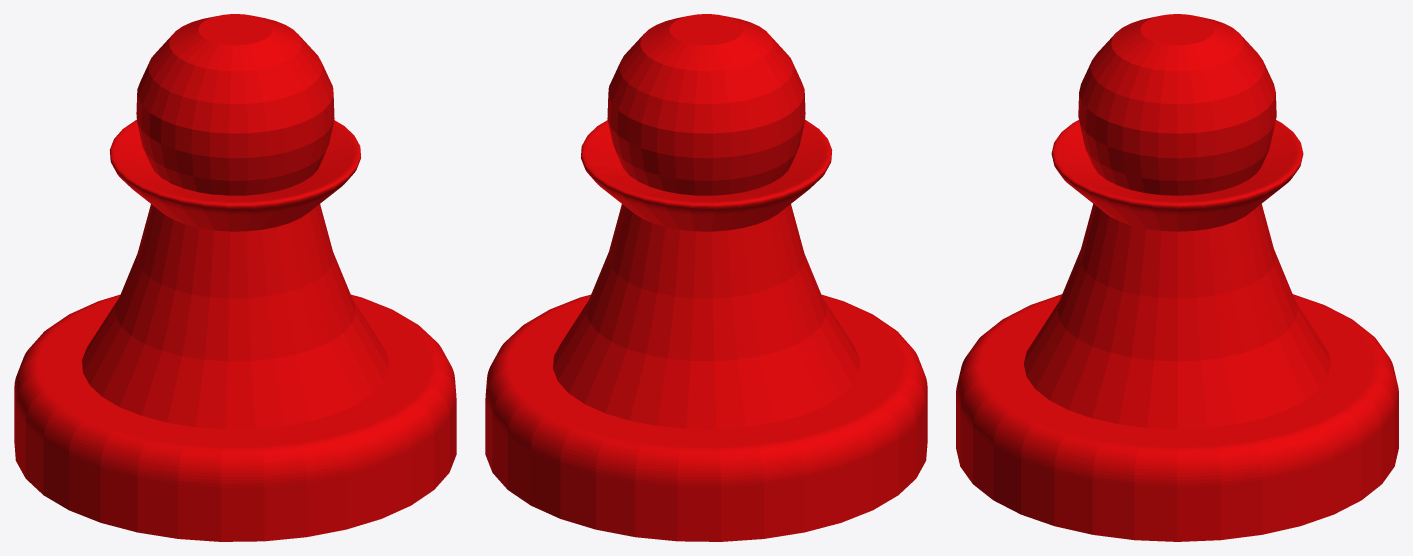
The model's file is RedPawn.fbx.
3 views of the same model, side by side, from view 1: azimuth 30°, elevation 25°; view 2: azimuth 150°, elevation 25°; view 3: azimuth 270°, elevation 25° (orthographic).
Visible parts, largest first — view 1: Cylinder; view 2: Cylinder; view 3: Cylinder.
Part boxes in pixels (box(x1,y1,x2,y2)): Cylinder: box(14, 14, 456, 541); Cylinder: box(485, 14, 927, 541); Cylinder: box(956, 14, 1398, 541).
Bounding box in the file's own units: 22.44 × 23.4 × 22.44.
